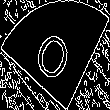O_SW: (31, 21, 79, 89)
